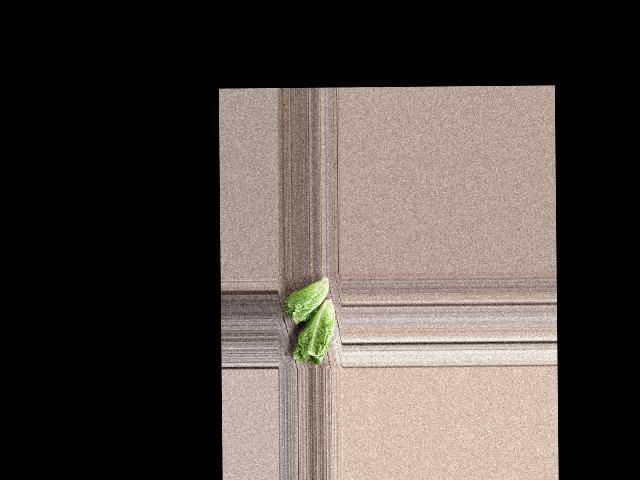lettuce: (280, 274, 331, 325)
